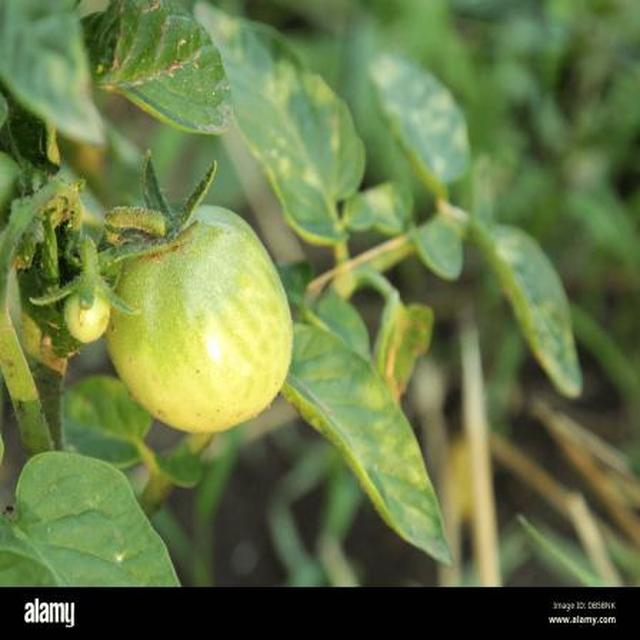Mosaic Virus Leaf: (168, 166, 594, 632)
